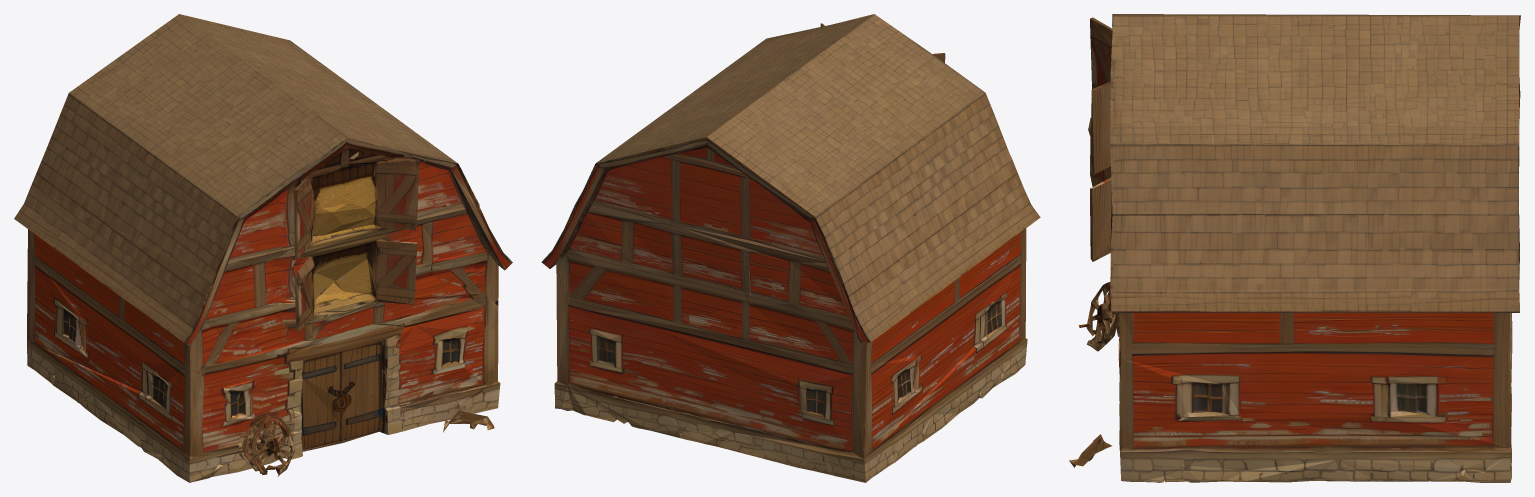
The model's file is barn.glb.
The picture shows the model from 3 angles, left to right: view 1: azimuth 30°, elevation 25°; view 2: azimuth 150°, elevation 25°; view 3: azimuth 270°, elevation 25°; orthographic projection. The views are drawn at different scales.
Visible parts, largest first — view 1: textured_mesh.obj; view 2: textured_mesh.obj; view 3: textured_mesh.obj.
Boxes of the visible parts, left/top/right/bottom form: textured_mesh.obj: left=14, top=14, right=512, bottom=482; textured_mesh.obj: left=541, top=14, right=1040, bottom=482; textured_mesh.obj: left=1069, top=14, right=1520, bottom=482.
Size of the model in its own units: 1.99 by 1.8 by 1.96.
1 material, 1 textured.
